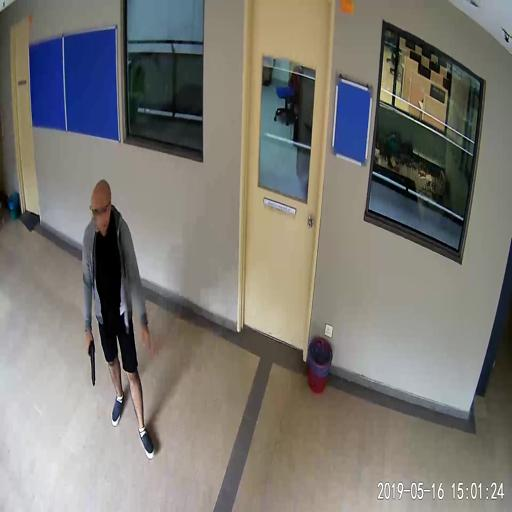pistol: (86, 337, 96, 385)
